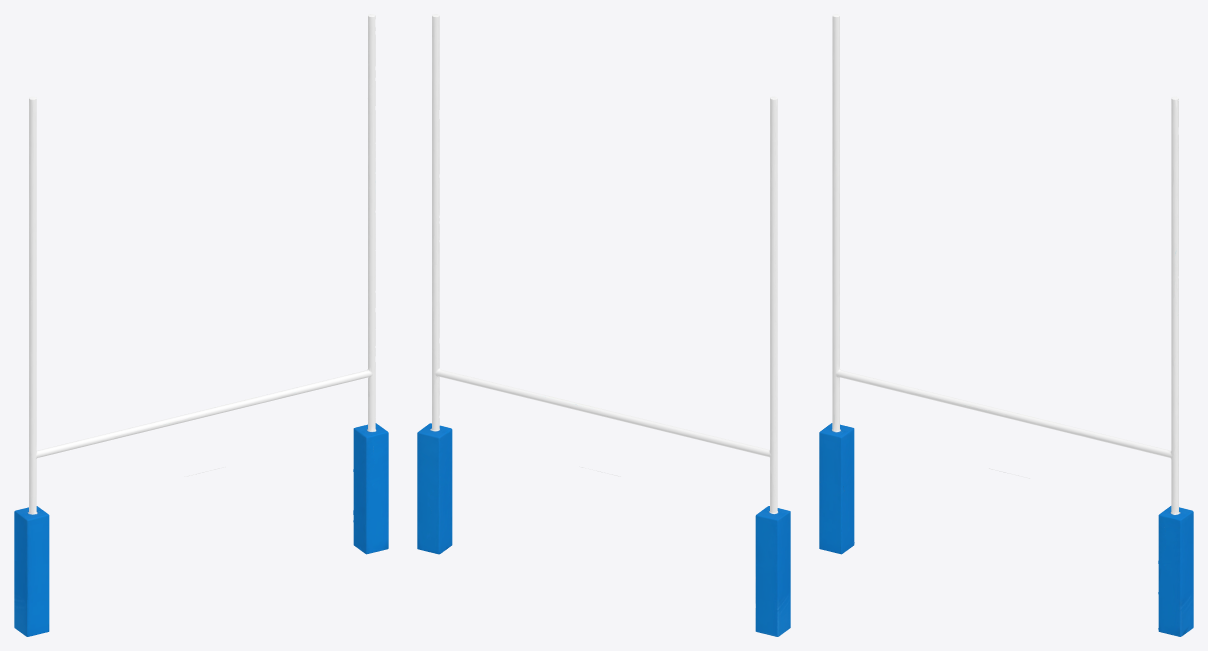
Rendered from poteaux.glb.
The picture shows the model from 3 angles, left to right: view 1: azimuth 30°, elevation 25°; view 2: azimuth 150°, elevation 25°; view 3: azimuth 330°, elevation 25°; orthographic projection.
Visible parts, largest first — view 1: mesh_node; view 2: mesh_node; view 3: mesh_node.
Boxes of the visible parts, <box> form: mesh_node: <box>14,14,388,636</box>; mesh_node: <box>417,14,790,636</box>; mesh_node: <box>819,14,1193,636</box>.
Bounding box in the file's own units: 1.35 × 1.9 × 0.0863.
Materials: 1 (1 with a texture image).
